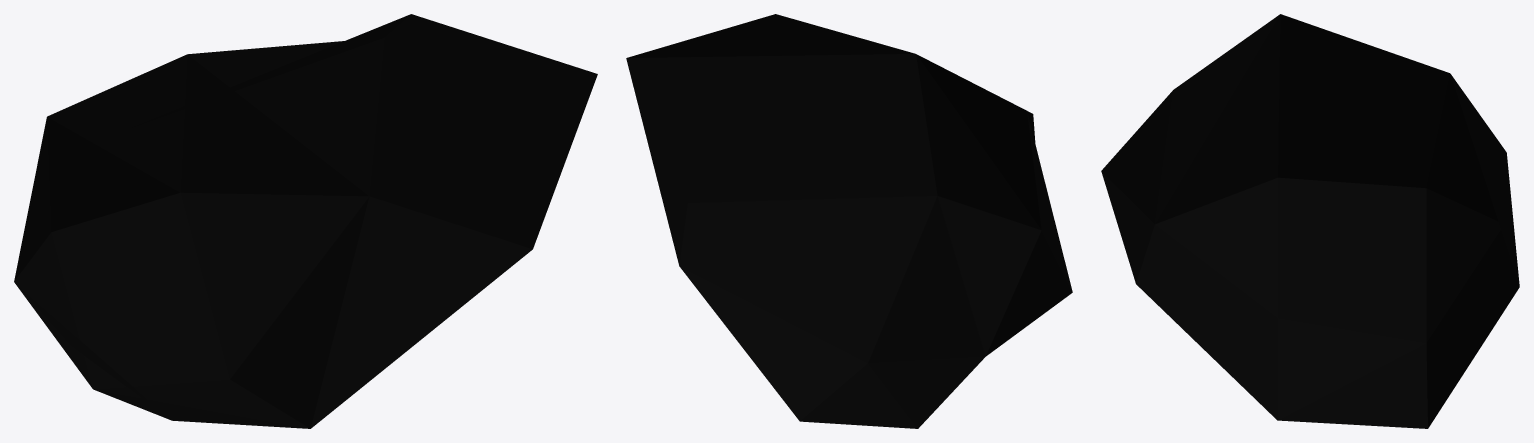
The picture shows the model from 3 angles, left to right: view 1: azimuth 30°, elevation 25°; view 2: azimuth 150°, elevation 25°; view 3: azimuth 270°, elevation 25°; orthographic projection. The views are drawn at different scales.
Size of the model in its own units: 0.2963 by 0.2133 by 0.218.
Materials: 1 (1 with a texture image).
